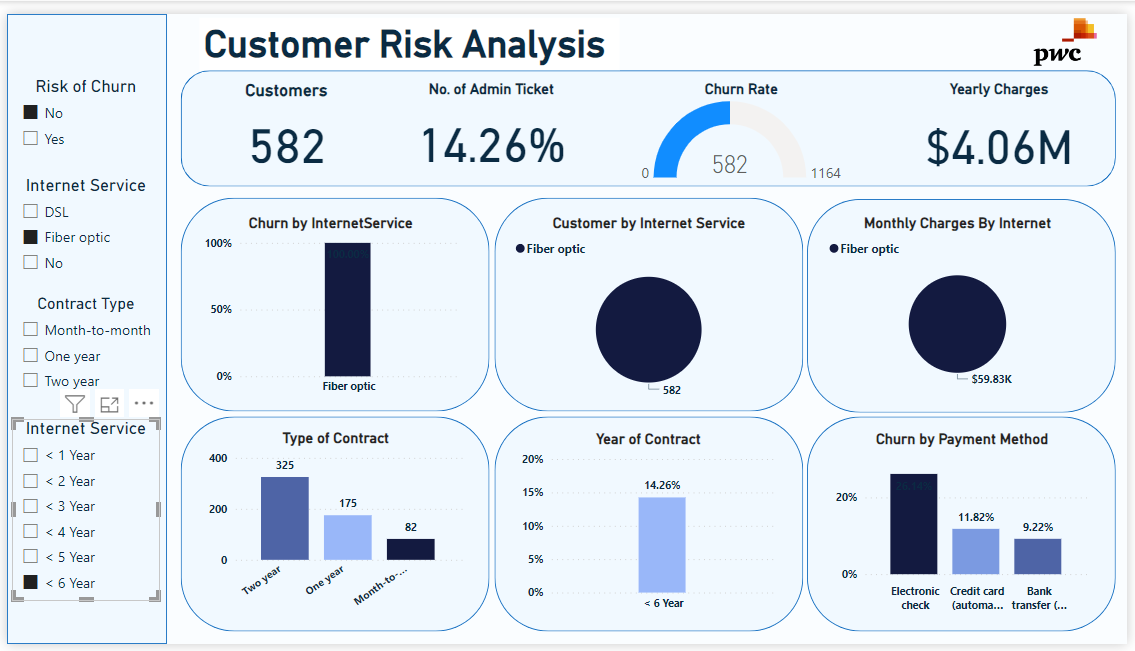

The dashboard page shown, as its layout file describes it:
{"tool":"powerbi","page":{"name":"Customer Risk Analysis","canvas":[1280,720],"ordinal":3},"visuals":[{"type":"shape","box":[198.6,210,352.9,244.3],"z":0},{"type":"shape","box":[198.6,64.3,1068.6,132.9],"z":1000},{"type":"shape","box":[0,0,182.9,720],"z":2000},{"type":"textbox","box":[220,4.3,480,60],"z":3000},{"type":"image","box":[1161.4,0,95.7,64.3],"z":4000},{"type":"card","title":"Customers","fields":{"Values":["CountNonNull(Churn.Customer_ID)"]},"box":[241.4,75.7,155.7,121.4],"z":5000},{"type":"card","title":"No. of Admin Ticket","fields":{"Values":["KPI_Churn.Churn Rate"]},"box":[457,75.7,192.9,121.4],"z":6000},{"type":"card","title":"Yearly Charges","fields":{"Values":["Sum(Churn.TotalCharges)"]},"box":[1028.2,75.6,210.4,121],"z":7000},{"type":"slicer","title":"Risk  of Churn","fields":{"Values":["Churn.Churn"]},"box":[5.7,71.4,168.6,90],"z":8000},{"type":"slicer","title":"Contract Type","fields":{"Values":["Churn.Contract"]},"box":[5.7,320,168.6,142.9],"z":9000},{"type":"gauge","title":"Churn Rate","fields":{"Y":["CountNonNull(Churn.Churn)"]},"box":[709.8,75.7,258.6,121.4],"z":10000},{"type":"columnChart","title":"Churn by InternetService","fields":{"Y":["CountNonNull(Churn.Churn)"],"Category":["Churn.InternetService"]},"box":[220,228.6,300,215.7],"z":11000},{"type":"shape","box":[198.6,460,352.9,245.7],"z":12000},{"type":"shape","box":[556.4,210,352.9,244.3],"z":13000},{"type":"shape","box":[914.3,211.4,352.9,244.3],"z":14000},{"type":"shape","box":[556.4,460,352.9,245.7],"z":15000},{"type":"shape","box":[914.3,460,352.9,245.7],"z":16000},{"type":"pieChart","title":"Customer by Internet Service","fields":{"Category":["Churn.InternetService"],"Y":["CountNonNull(Churn.Customer_ID)"]},"box":[575.7,228.6,315.7,215.7],"z":17000},{"type":"pieChart","title":"Monthly Charges By Internet","fields":{"Y":["Sum(Churn.MonthlyCharges)"],"Category":["Churn.InternetService"]},"box":[934.3,228.6,304.3,202.9],"z":18000},{"type":"columnChart","title":"Type of Contract","fields":{"Y":["CountNonNull(Churn.Churn)"],"Category":["Churn.Contract"]},"box":[225.7,474.3,300,215.7],"z":19000},{"type":"columnChart","title":"Year of Contract","fields":{"Y":["KPI_Churn.Churn Rate"],"Category":["Churn.Loyalty"]},"box":[582.9,475.7,300,215.7],"z":20000},{"type":"columnChart","title":"Churn by Payment Method","fields":{"Y":["KPI_Churn.Churn Rate"],"Category":["Churn.PaymentMethod"]},"box":[941.4,475.7,300,215.7],"z":21000},{"type":"slicer","title":"Internet Service","fields":{"Values":["Churn.InternetService"]},"box":[5.7,184.3,168.6,121.4],"z":22000},{"type":"slicer","title":"Internet Service","fields":{"Values":["Churn.Loyalty"]},"box":[5.7,462.9,168.6,208.6],"z":23000}]}

Visuals, with their boxes in screenshot pixels (x1, y1, x2, y2), scaled from the page's 1280x720 canvas onto the 1135x651 screenshot:
shape: l=176, t=190, r=489, b=411
shape: l=176, t=58, r=1124, b=178
shape: l=0, t=0, r=162, b=650
textbox: l=195, t=4, r=621, b=58
image: l=1030, t=0, r=1115, b=58
"Customers" card: l=214, t=68, r=352, b=178
"No. of Admin Ticket" card: l=405, t=68, r=576, b=178
"Yearly Charges" card: l=912, t=68, r=1098, b=178
"Risk  of Churn" slicer: l=5, t=65, r=155, b=146
"Contract Type" slicer: l=5, t=289, r=155, b=419
"Churn Rate" gauge: l=629, t=68, r=859, b=178
"Churn by InternetService" columnChart: l=195, t=207, r=461, b=402
shape: l=176, t=416, r=489, b=638
shape: l=493, t=190, r=806, b=411
shape: l=811, t=191, r=1124, b=412
shape: l=493, t=416, r=806, b=638
shape: l=811, t=416, r=1124, b=638
"Customer by Internet Service" pieChart: l=510, t=207, r=790, b=402
"Monthly Charges By Internet" pieChart: l=828, t=207, r=1098, b=390
"Type of Contract" columnChart: l=200, t=429, r=466, b=624
"Year of Contract" columnChart: l=517, t=430, r=783, b=625
"Churn by Payment Method" columnChart: l=835, t=430, r=1101, b=625
"Internet Service" slicer: l=5, t=167, r=155, b=276
"Internet Service" slicer: l=5, t=419, r=155, b=607
